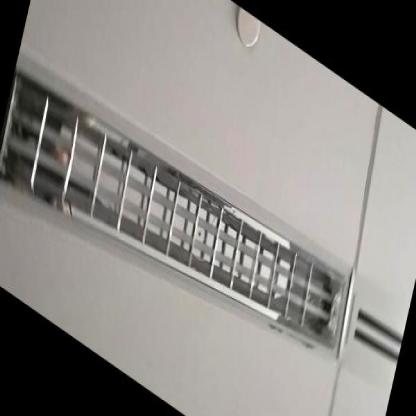light_off: (0, 6, 372, 415)
